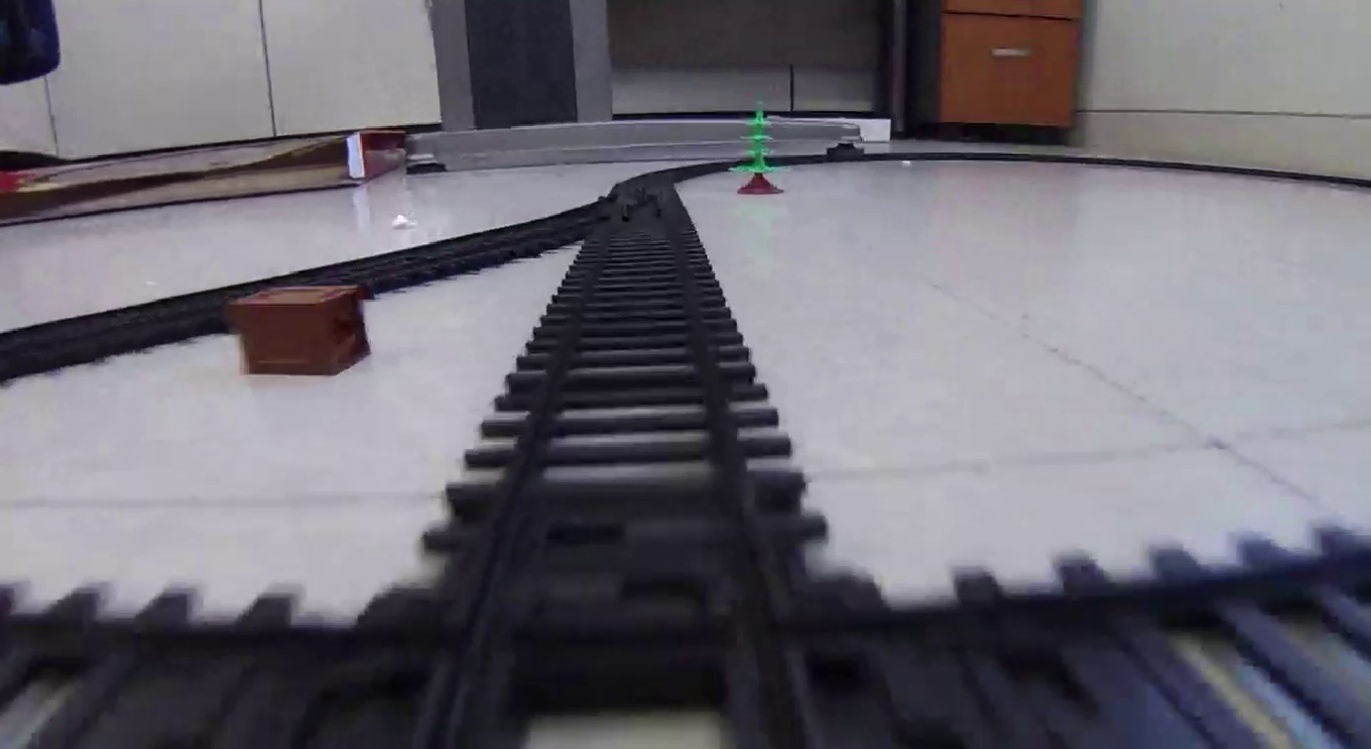box: (232, 287, 371, 375)
tree: (727, 100, 789, 195)
